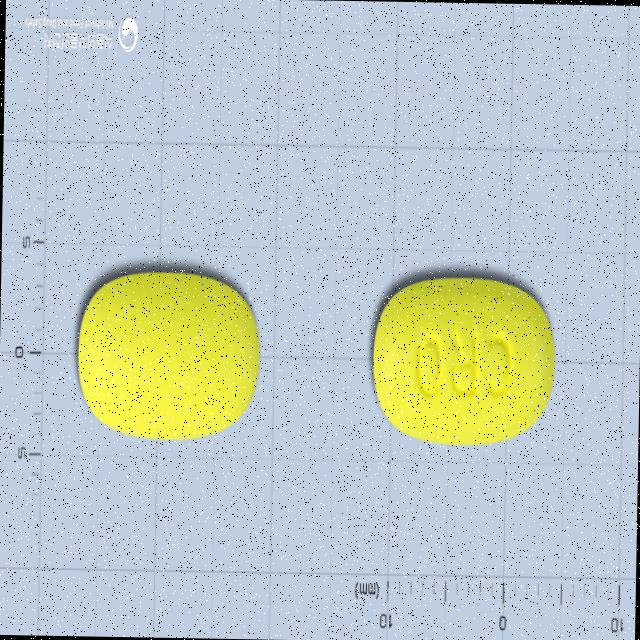Clarosin - 250mg: (369, 273, 556, 450)
